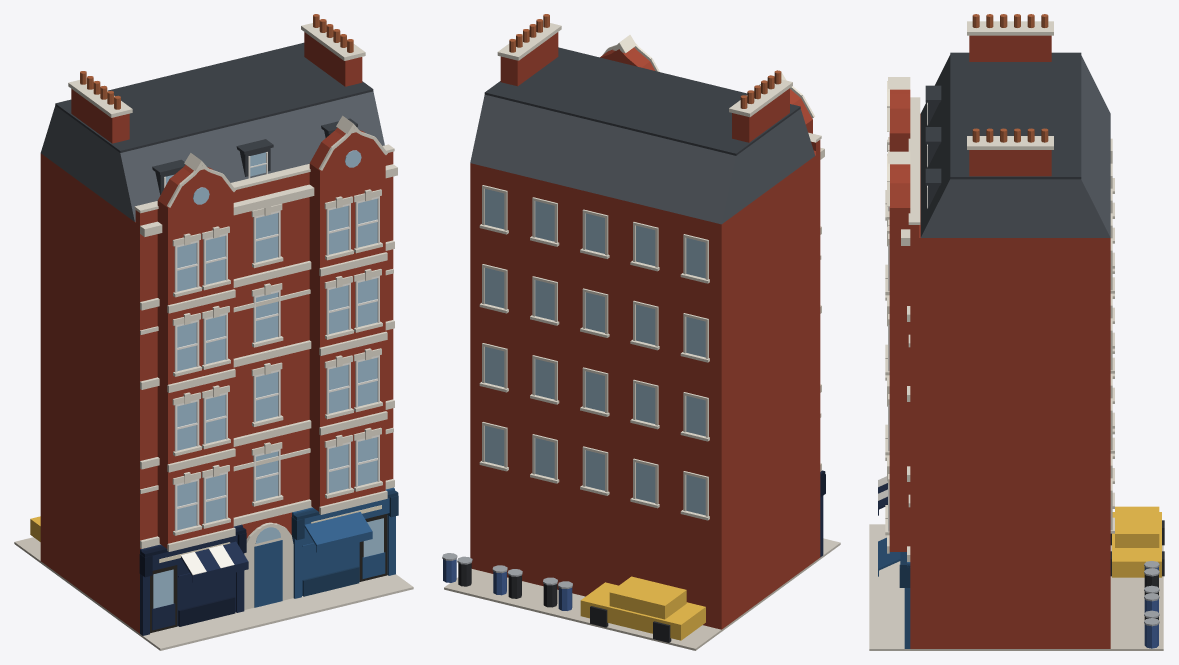
The model's file is Blok_duz_5k_2_Hafif.fbx.
3 views of the same model, side by side, from view 1: azimuth 30°, elevation 25°; view 2: azimuth 150°, elevation 25°; view 3: azimuth 270°, elevation 25° (orthographic).
Visible parts, largest first — view 1: Blok_duz_5k_2_Hafif; view 2: Blok_duz_5k_2_Hafif; view 3: Blok_duz_5k_2_Hafif.
Part boxes in pixels (x1,y1,x2,y2): Blok_duz_5k_2_Hafif: (14,14,413,650); Blok_duz_5k_2_Hafif: (442,14,840,650); Blok_duz_5k_2_Hafif: (869,14,1164,650).
Bounding box in the file's own units: 10.29 × 19.34 × 10.04.
